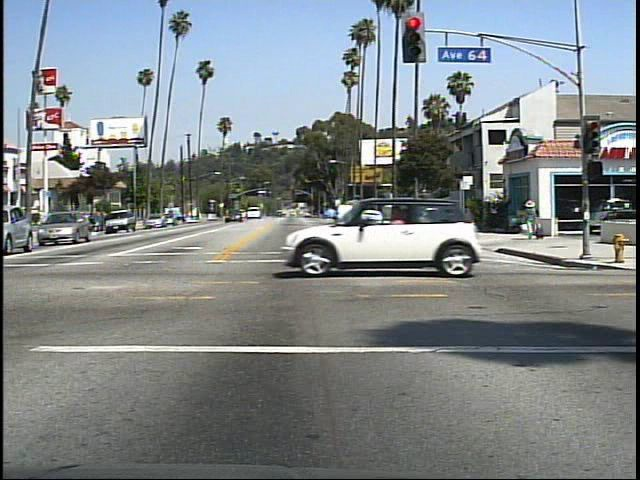person: (519, 195, 546, 248)
